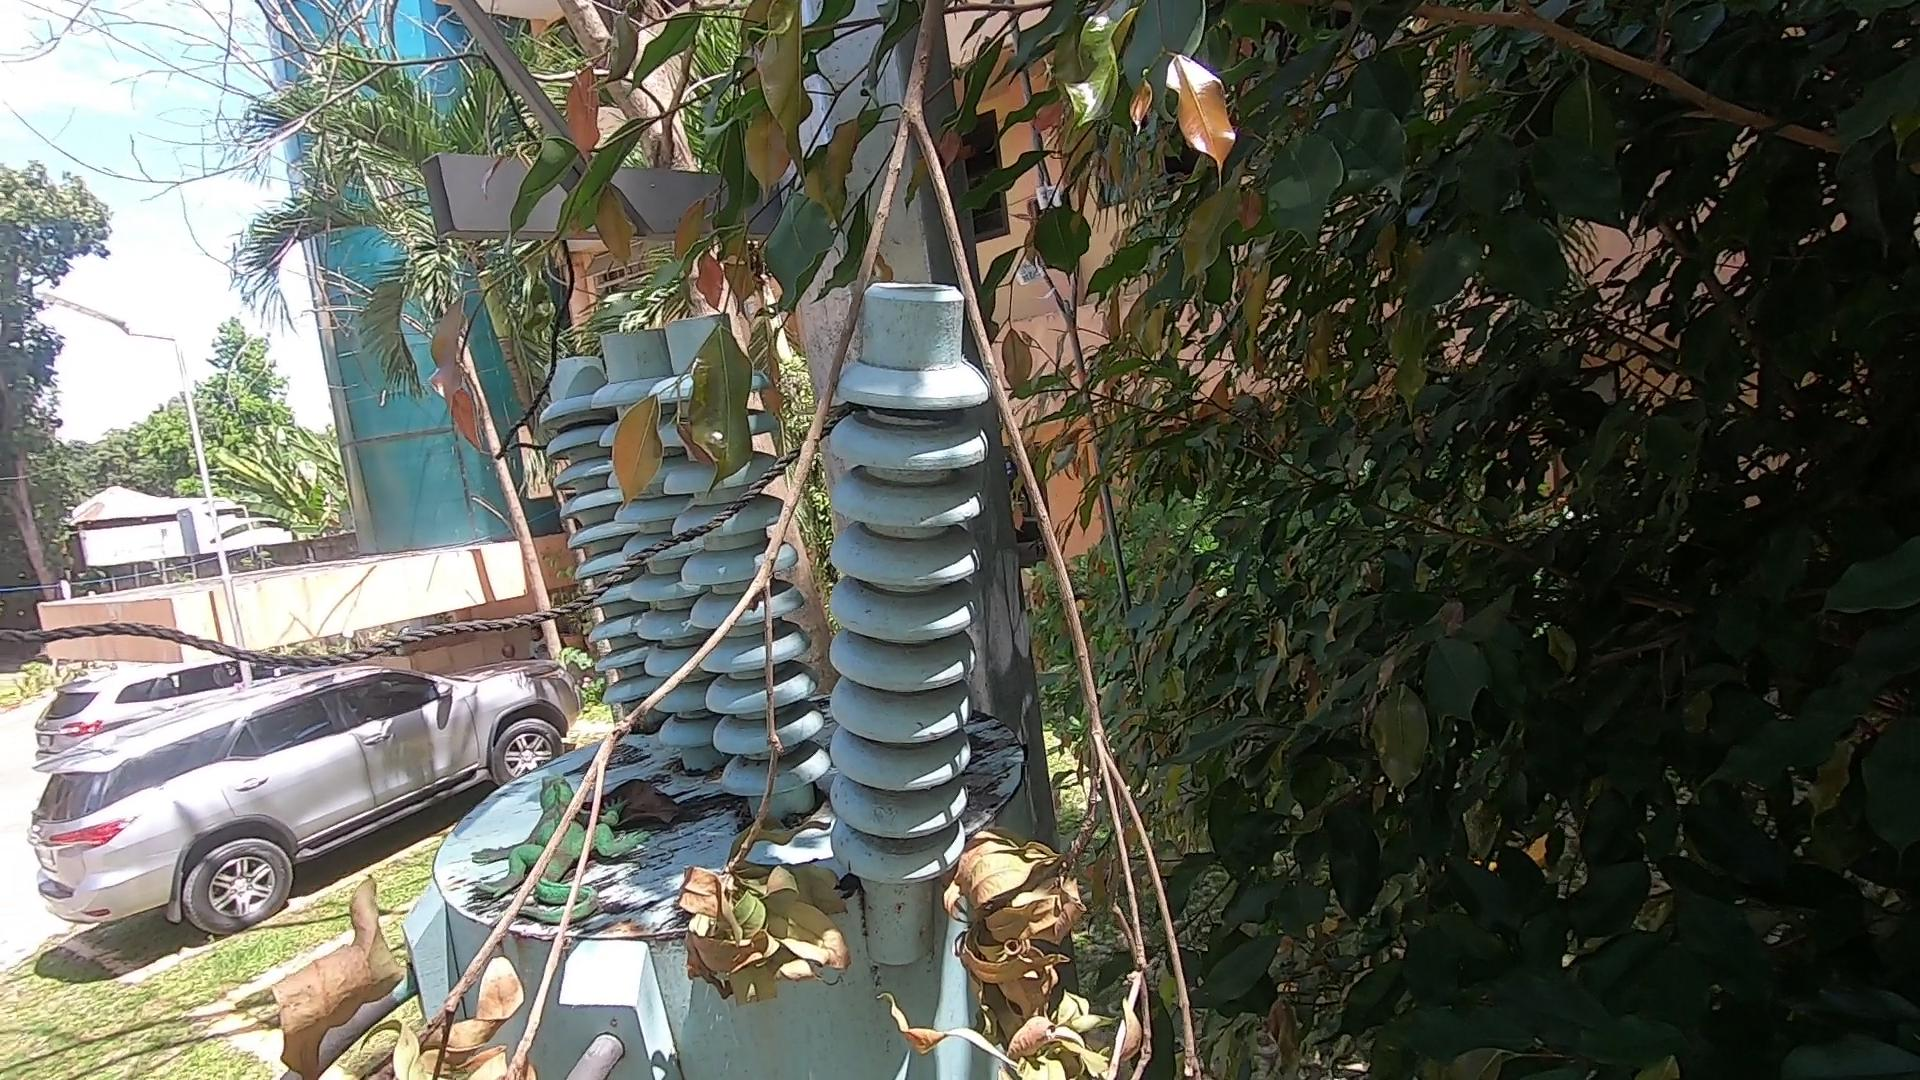branch with leaves: (233, 1, 1225, 1077)
leaf: (585, 774, 694, 837)
